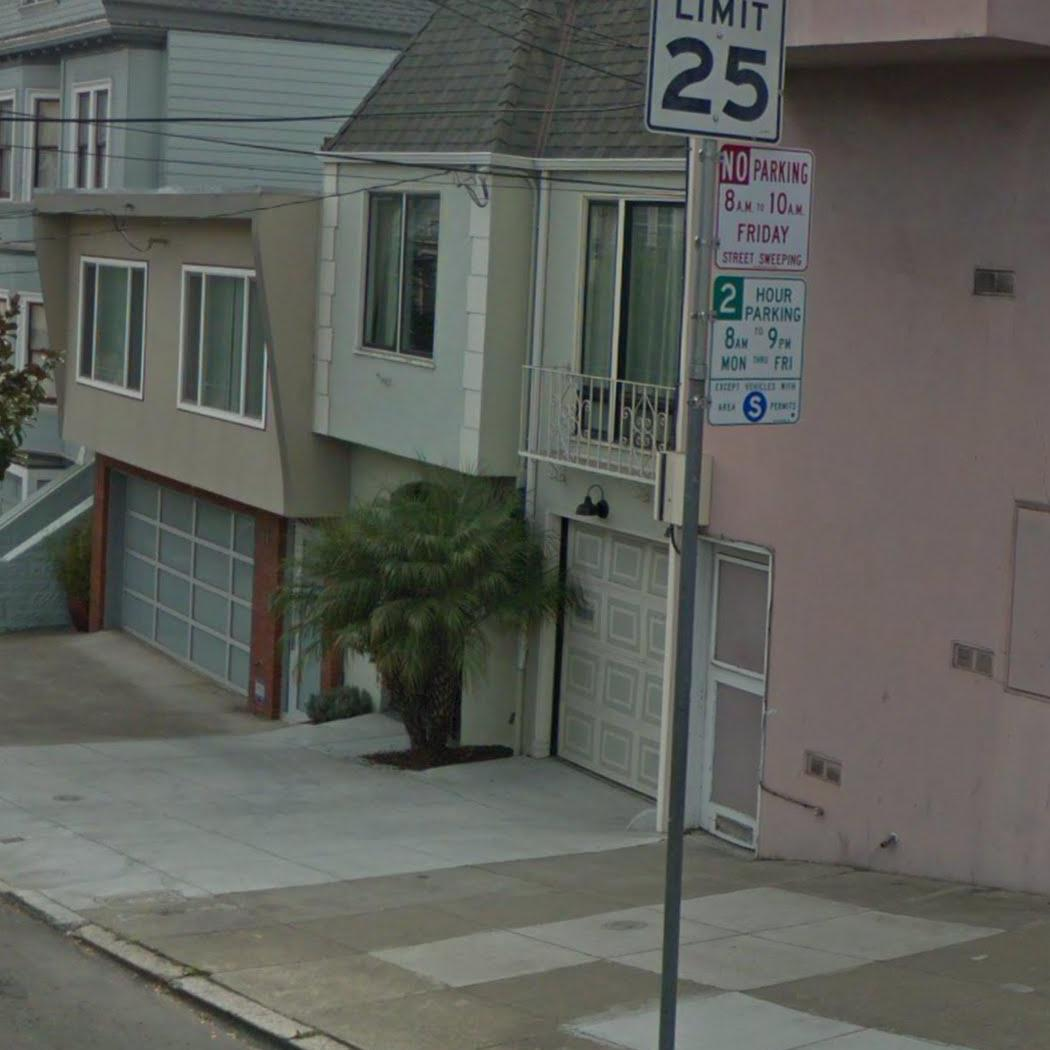2 Hour Parking: (708, 271, 813, 428)
No Parking: (711, 146, 821, 270)
